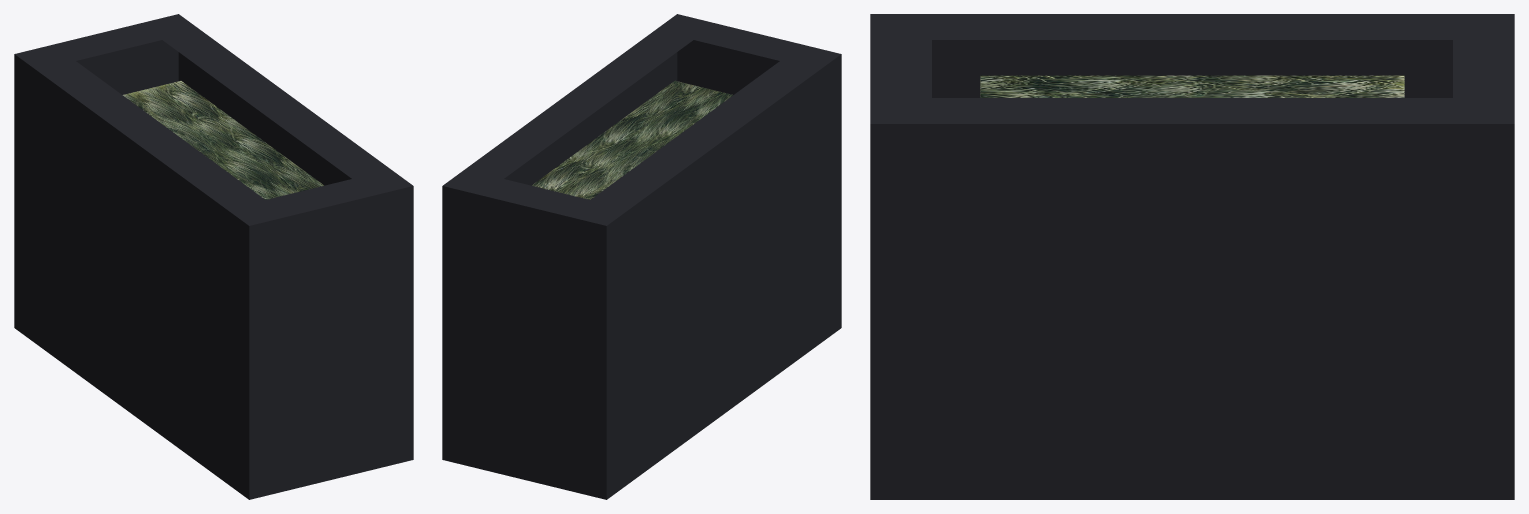
File: Bulmen_vase.glb
3 views of the same model, side by side, from view 1: azimuth 30°, elevation 25°; view 2: azimuth 150°, elevation 25°; view 3: azimuth 270°, elevation 25° (orthographic). The views are drawn at different scales.
Visible parts, largest first — view 1: Blumen Deko, Fläche; view 2: Blumen Deko, Fläche; view 3: Blumen Deko, Fläche.
Part boxes in pixels (box(x1,y1,x2,y2)): Blumen Deko: box(14, 14, 413, 499); Fläche: box(122, 81, 323, 199); Blumen Deko: box(442, 14, 841, 499); Fläche: box(532, 81, 733, 199); Blumen Deko: box(870, 14, 1514, 499); Fläche: box(980, 75, 1404, 97).
Bounding box in the file's own units: 4.52 × 7.2 × 11.18.
2 materials, 1 textured.
